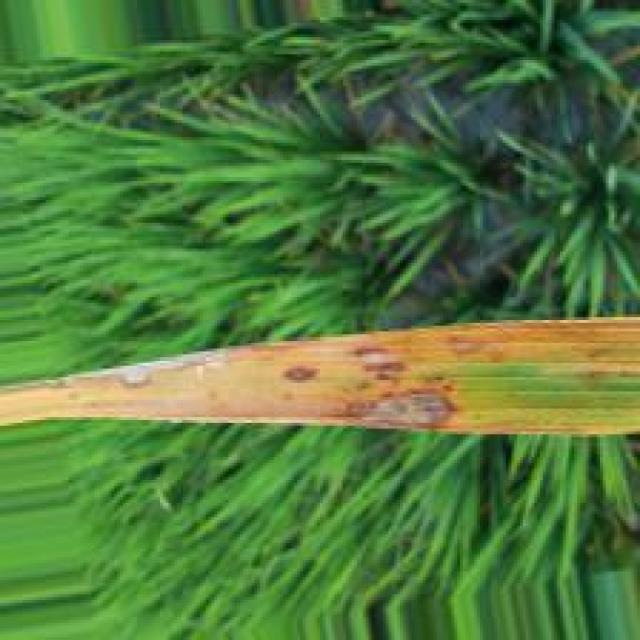Narrow_Brown_Leaf_Spot: (0, 319, 640, 430)
